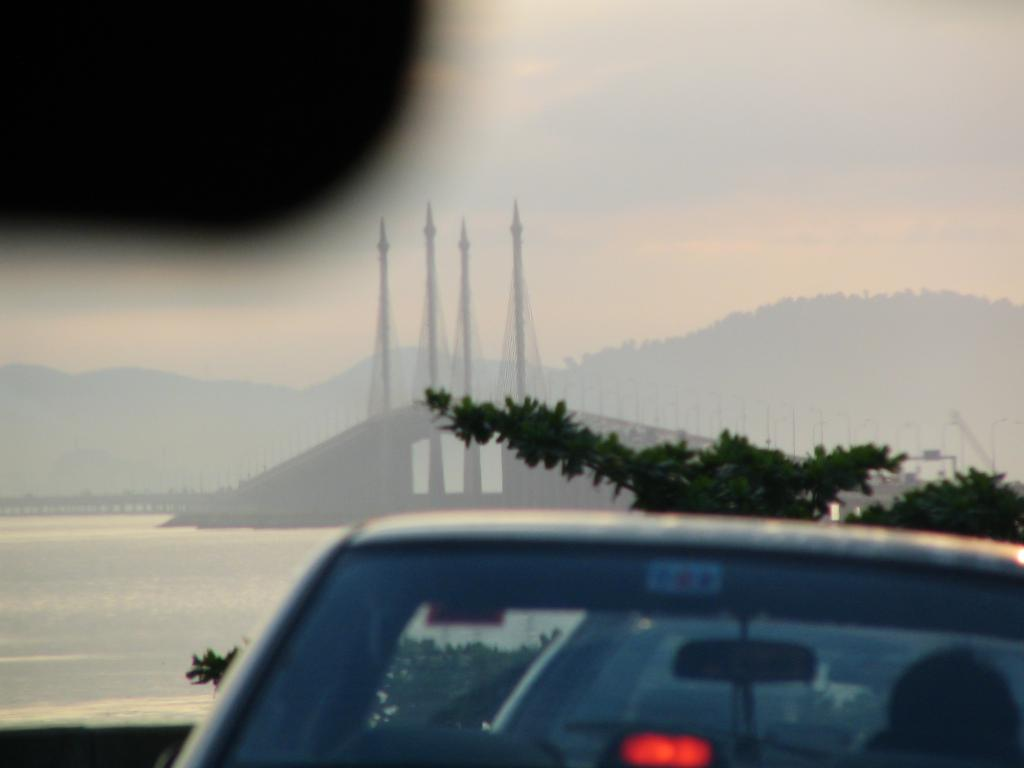Car: (145, 504, 1023, 764)
